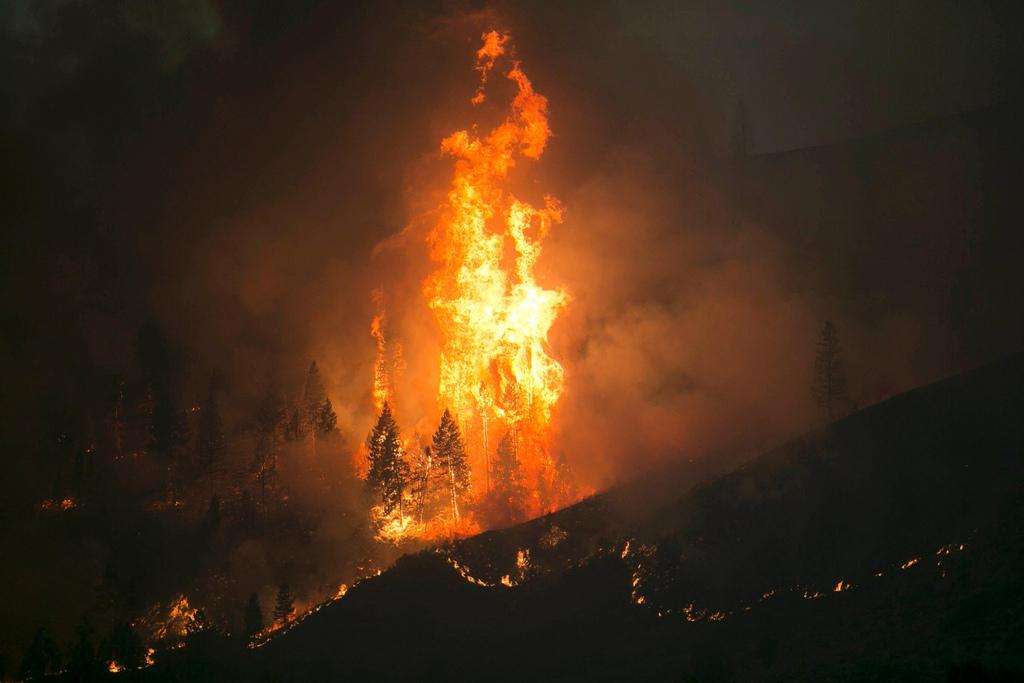fire: (440, 200, 560, 427)
